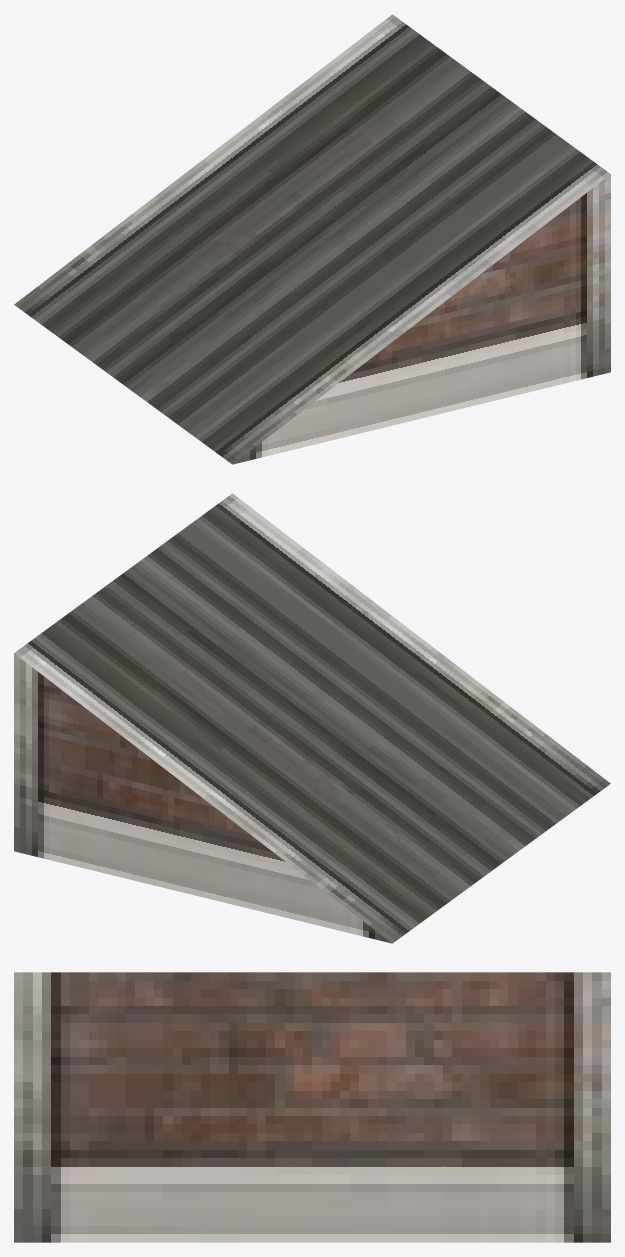
Rendered from kenney-retro-urban-wall-a-roof-slant.glb.
3 views of the same model, one above another, from view 1: azimuth 30°, elevation 25°; view 2: azimuth 150°, elevation 25°; view 3: azimuth 270°, elevation 25° (orthographic). The views are drawn at different scales.
Parts seen in each view (by area): view 1: wall-a-roof-slant; view 2: wall-a-roof-slant; view 3: wall-a-roof-slant.
Part boxes in pixels (box(x1,y1,x2,y2)): wall-a-roof-slant: box(14, 14, 610, 464); wall-a-roof-slant: box(14, 493, 610, 943); wall-a-roof-slant: box(14, 972, 610, 1242).
Bounding box in the file's own units: 1 × 0.5001 × 1.
Materials: 3 (3 with a texture image).
